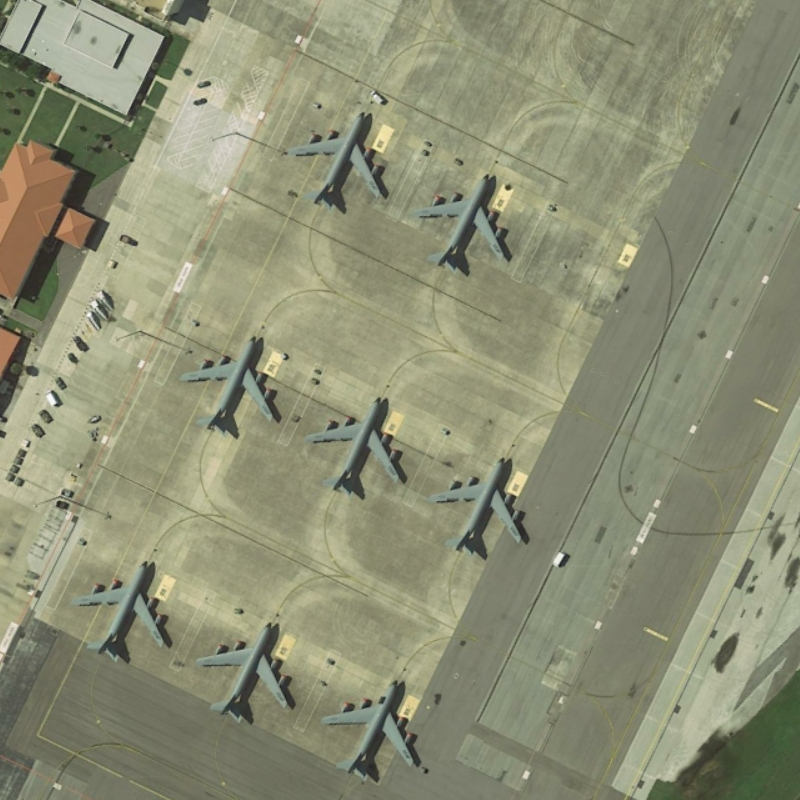A14: (319, 668, 432, 788), (68, 550, 178, 671), (407, 165, 518, 283), (189, 615, 299, 733), (284, 102, 396, 215), (422, 447, 533, 559), (176, 331, 284, 441), (304, 387, 409, 498)
